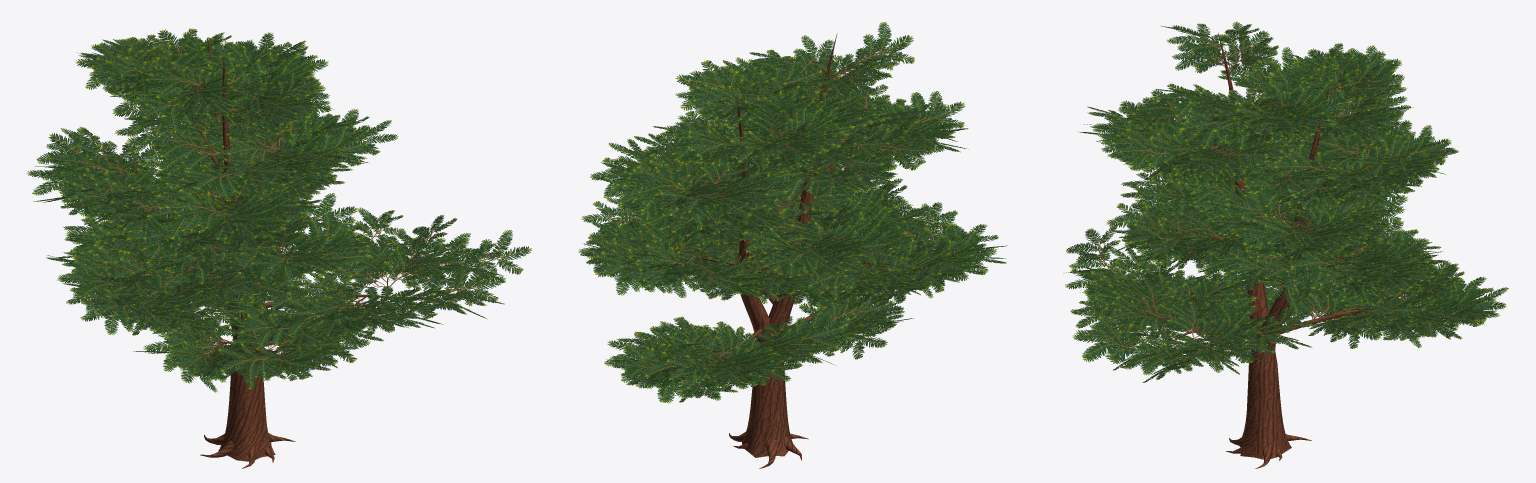
The model's file is corealm_yew_1.glb.
The picture shows the model from 3 angles, left to right: view 1: azimuth 30°, elevation 25°; view 2: azimuth 150°, elevation 25°; view 3: azimuth 270°, elevation 25°; orthographic projection. The views are drawn at different scales.
Visible parts, largest first — view 1: corealm_yew_1; view 2: corealm_yew_1; view 3: corealm_yew_1.
Boxes of the visible parts, x1,y1,x2,y2 form: corealm_yew_1: (26, 28, 531, 468); corealm_yew_1: (578, 22, 1007, 468); corealm_yew_1: (1063, 21, 1508, 468).
Size of the model in its own units: 7.92 by 7.13 by 7.72.
Materials: 2 (2 with a texture image).
